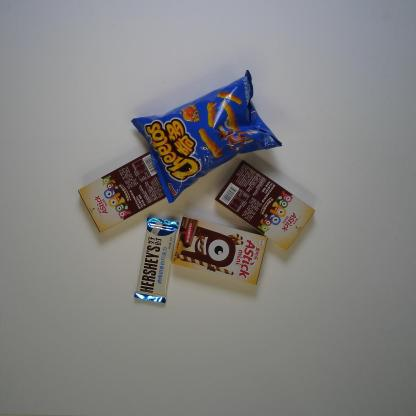Chocolate: (132, 215, 179, 306)
Dessert: (214, 158, 315, 251), (76, 150, 168, 233), (170, 216, 268, 288)
Puffed Food: (130, 69, 283, 203)
